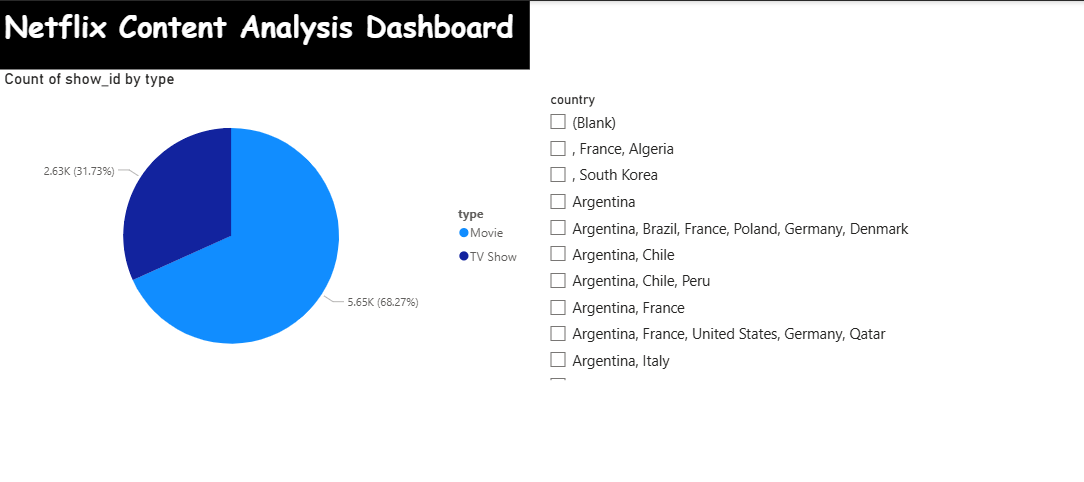

The page's visual inventory and layout, read from the dashboard file:
{"tool":"powerbi","page":{"name":"Page 1","canvas":[1280,720],"ordinal":0},"visuals":[{"type":"pieChart","fields":{"Category":["netflix_titles.type"],"Y":["CountNonNull(netflix_titles.show_id)"]},"box":[0,0,581.8,359.5],"z":0},{"type":"slicer","fields":{"Values":["netflix_titles.country"]},"box":[605.1,0,675.1,446],"z":1000}]}

Visuals, with their boxes on the page's 1280x720 design canvas (x1, y1, x2, y2). These are canvas units, not pixel positions in the 1084x482 screenshot, which may show the page scaled, cropped or inside an application window:
pieChart - netflix_titles.type x CountNonNull(netflix_titles.show_id): left=0, top=0, right=582, bottom=360
slicer - netflix_titles.country: left=605, top=0, right=1280, bottom=446
